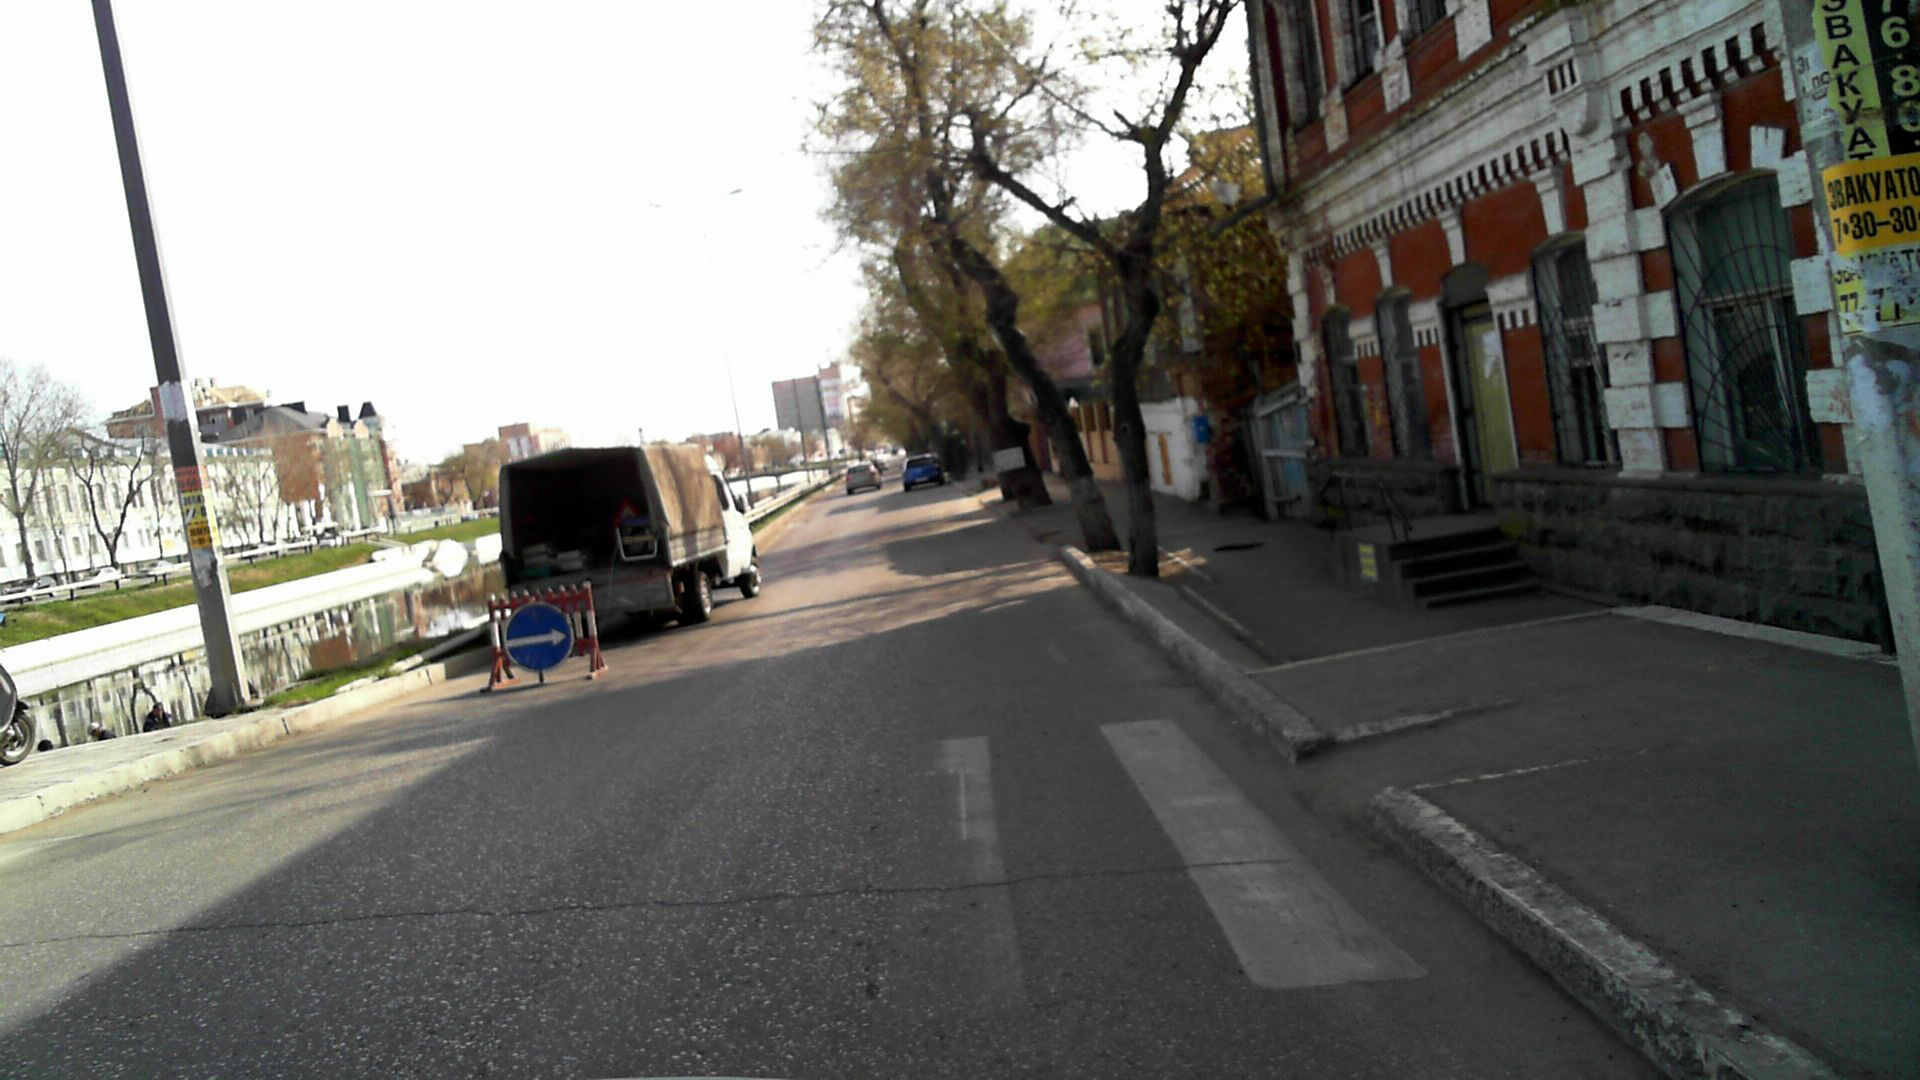Turn Right: (504, 603, 574, 671)
